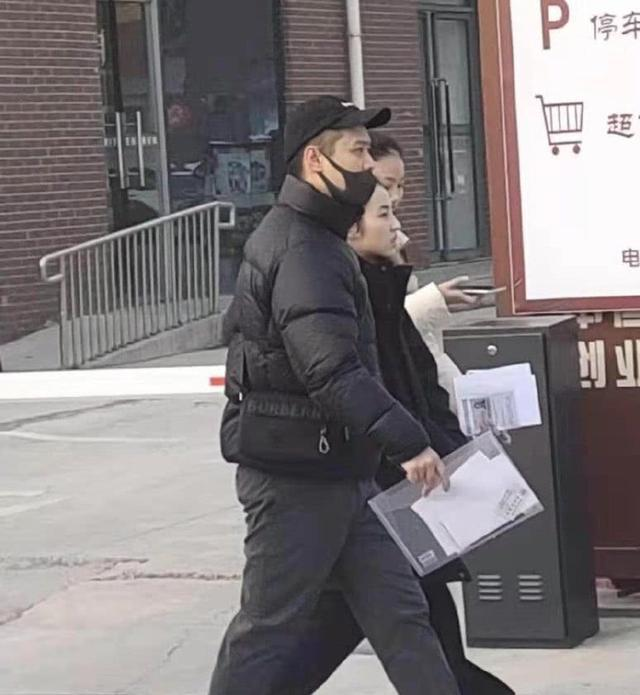mask: (323, 151, 389, 207)
